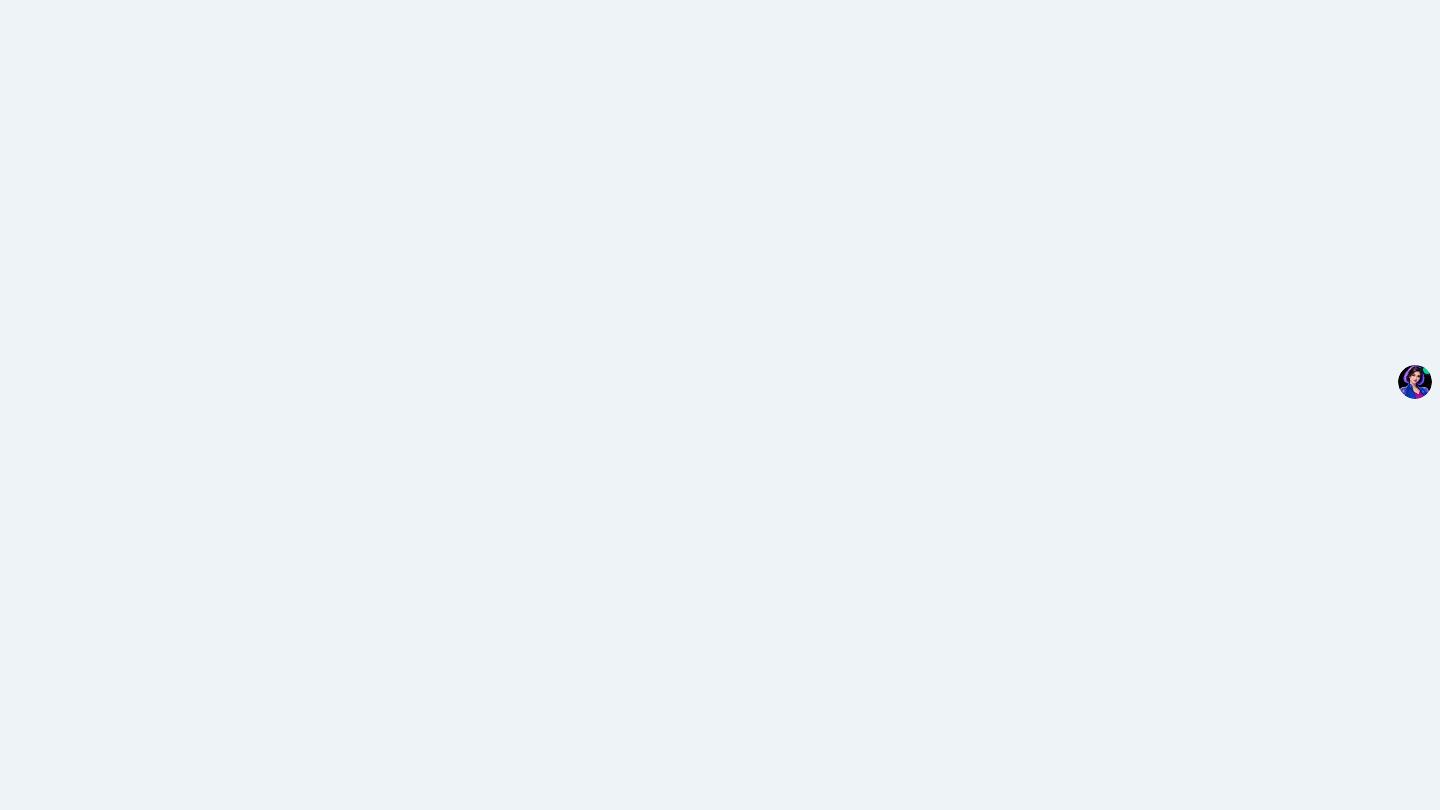
it: IallkaFloatingIcon — ícone e painel › 5. abrir e fechar o painel funciona
Click the button named "Falar com a Aura" at [1415, 382], box [1398,365,1432,399]
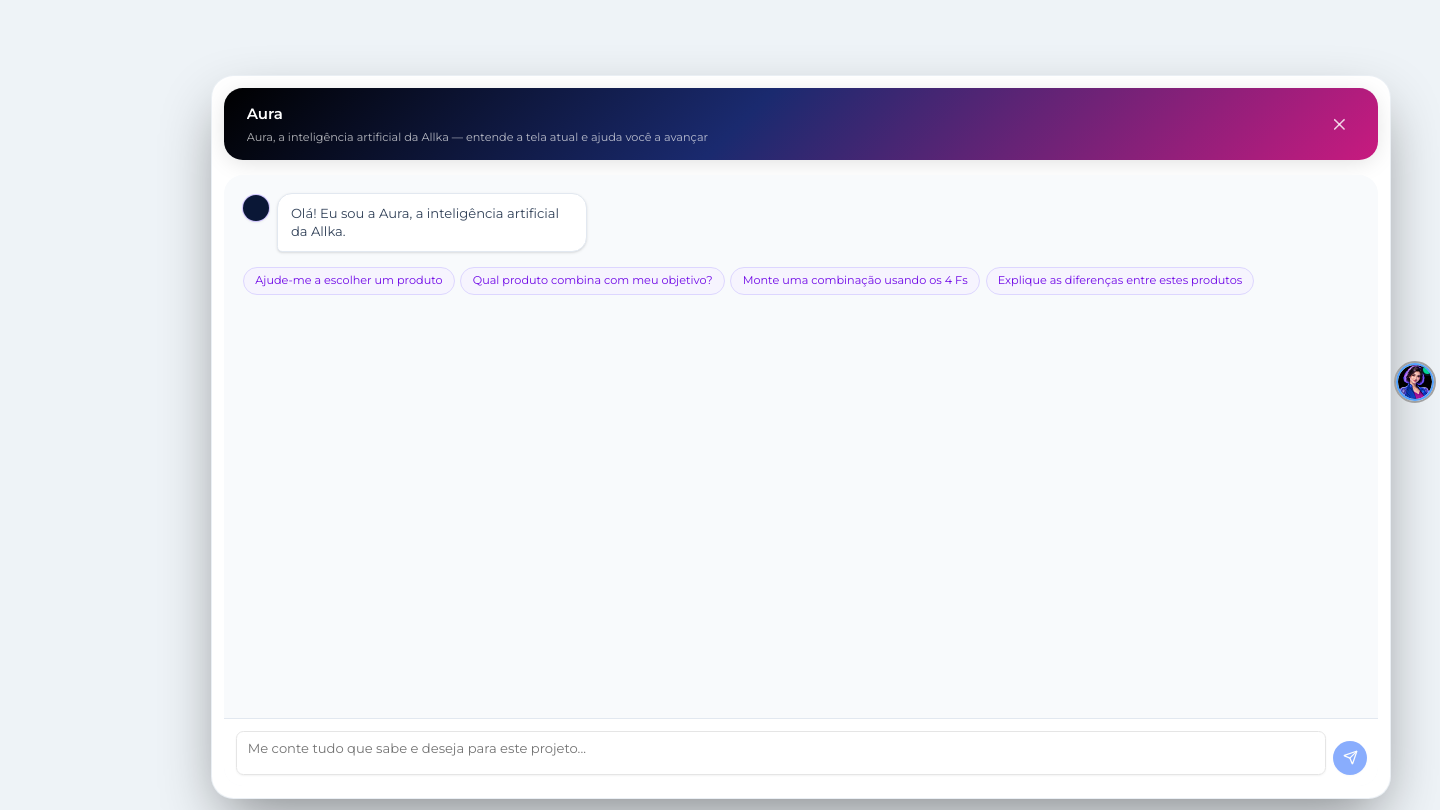
Check: the heading "Aura" is shown, box [247,104,283,123]
